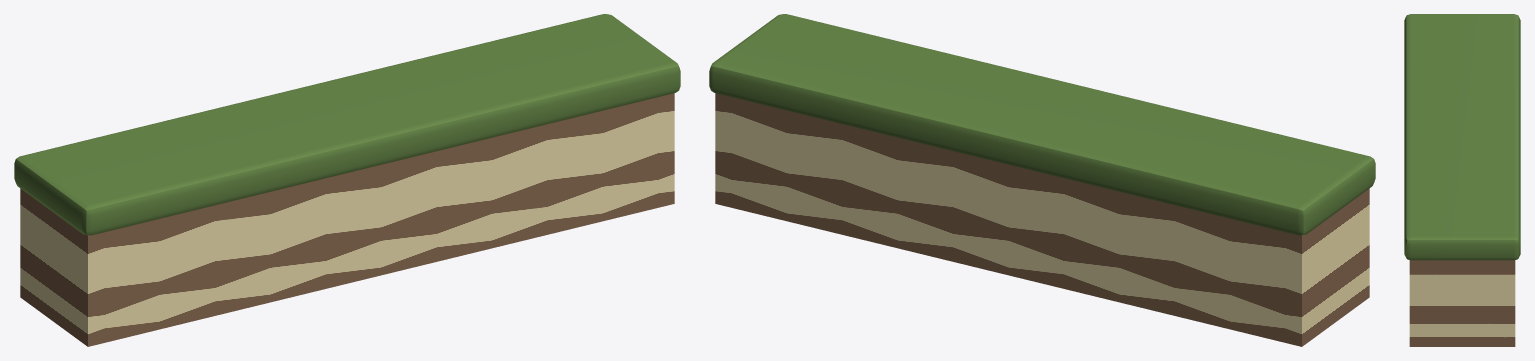
The model's file is TestStageSand.fbx.
3 views of the same model, side by side, from view 1: azimuth 30°, elevation 25°; view 2: azimuth 150°, elevation 25°; view 3: azimuth 270°, elevation 25° (orthographic). The views are drawn at different scales.
Visible parts, largest first — view 1: pCube3; view 2: pCube3; view 3: pCube3.
Boxes of the visible parts, x1,y1,x2,y2 form: pCube3: [14, 14, 680, 346]; pCube3: [709, 14, 1375, 346]; pCube3: [1404, 14, 1520, 346].
Bounding box in the file's own units: 10.2 × 2.3 × 2.2.
Materials: 2 (1 with a texture image).
